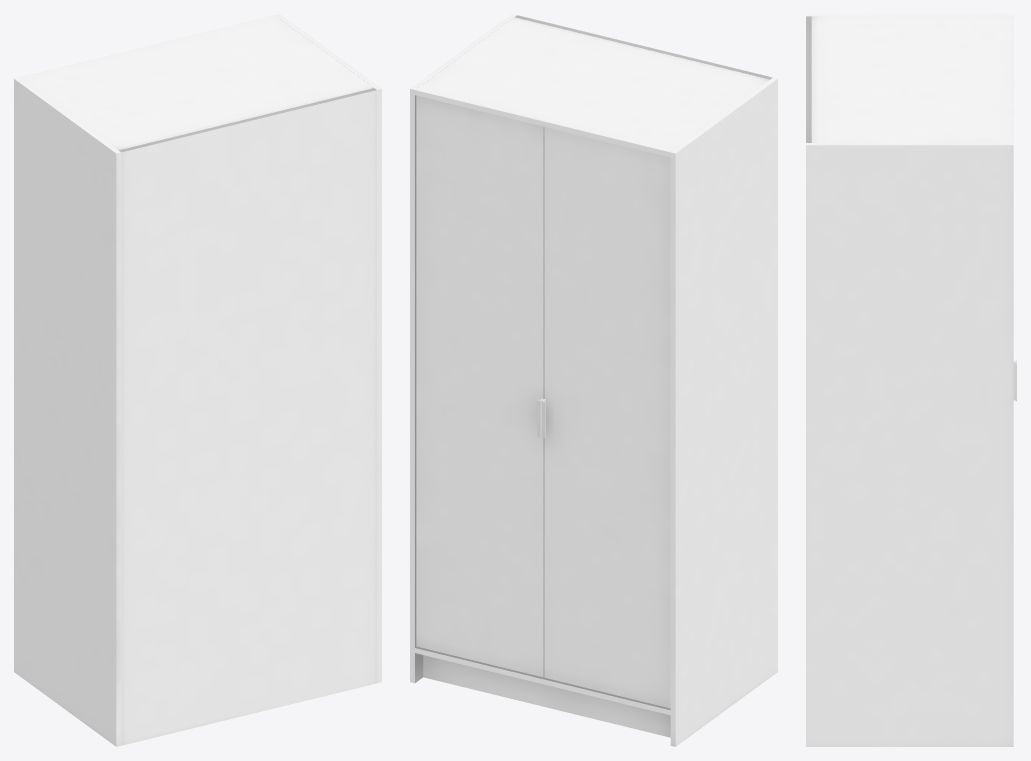
The model's file is CupboardShapes.glb.
3 views of the same model, side by side, from view 1: azimuth 30°, elevation 25°; view 2: azimuth 150°, elevation 25°; view 3: azimuth 270°, elevation 25° (orthographic).
Visible parts, largest first — view 1: CupboardShapes; view 2: CupboardShapes; view 3: CupboardShapes.
Part boxes in pixels (x1,y1,x2,y2): CupboardShapes: [14, 14, 381, 746]; CupboardShapes: [410, 14, 777, 746]; CupboardShapes: [806, 14, 1013, 746].
Size of the model in its own units: 0.8241 by 1.76 by 0.5593.
1 material, 1 textured.
